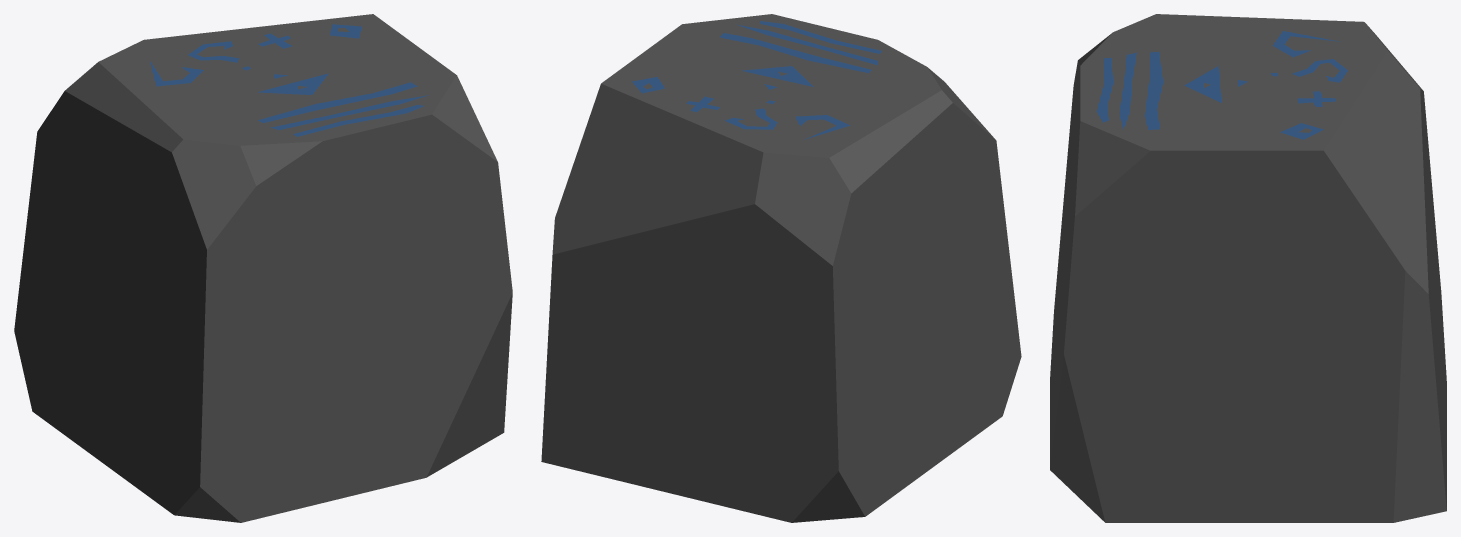
The model's file is Ruins_12.fbx.
3 renders of one model, left to right at view 1: azimuth 30°, elevation 25°; view 2: azimuth 150°, elevation 25°; view 3: azimuth 270°, elevation 25°, orthographic. The views are drawn at different scales.
Visible parts, largest first — view 1: Ruins_12; view 2: Ruins_12; view 3: Ruins_12.
Boxes of the visible parts, bbox=[...] form: Ruins_12: bbox=[14, 14, 512, 522]; Ruins_12: bbox=[541, 14, 1021, 522]; Ruins_12: bbox=[1050, 14, 1446, 522].
Size of the model in its own units: 89.13 by 89.13 by 89.13.
